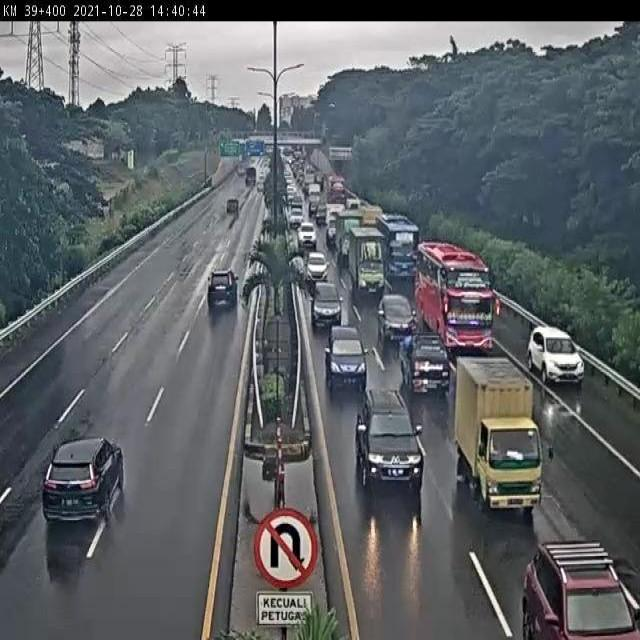bus-l-: (415, 240, 497, 357), (373, 214, 419, 282)
car: (356, 386, 426, 491), (526, 324, 587, 391), (400, 329, 451, 395), (323, 323, 368, 389), (376, 293, 416, 347), (309, 280, 344, 329), (205, 268, 239, 308), (304, 250, 330, 282)
mid truck: (41, 435, 125, 525)
truck-m-: (346, 225, 387, 298)
truck-s-: (454, 355, 544, 513)
